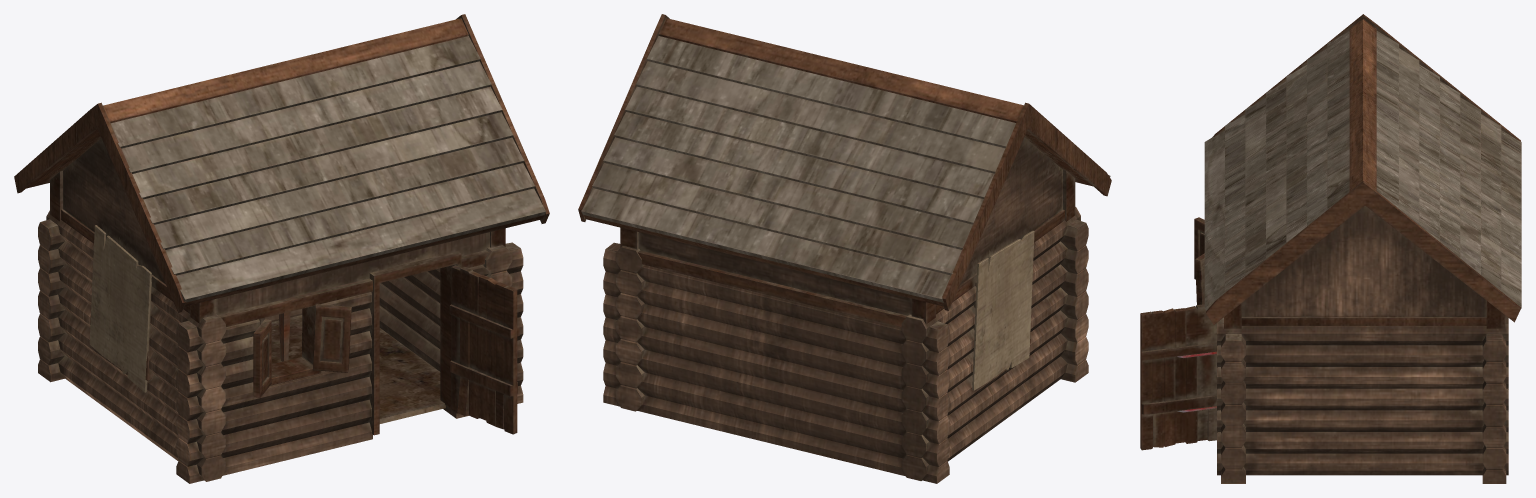
3 views of the same model, side by side, from view 1: azimuth 30°, elevation 25°; view 2: azimuth 150°, elevation 25°; view 3: azimuth 270°, elevation 25° (orthographic). The views are drawn at different scales.
Parts seen in each view (by area): view 1: Loww_Poly_house2:Mesh; view 2: Loww_Poly_house2:Mesh; view 3: Loww_Poly_house2:Mesh.
Part boxes in pixels (x1,y1,x2,y2): Loww_Poly_house2:Mesh: [14, 14, 549, 483]; Loww_Poly_house2:Mesh: [578, 14, 1111, 483]; Loww_Poly_house2:Mesh: [1140, 14, 1521, 483].
Size of the model in its own units: 0.0499 by 0.0425 by 0.0476.
Materials: 1 (1 with a texture image).
